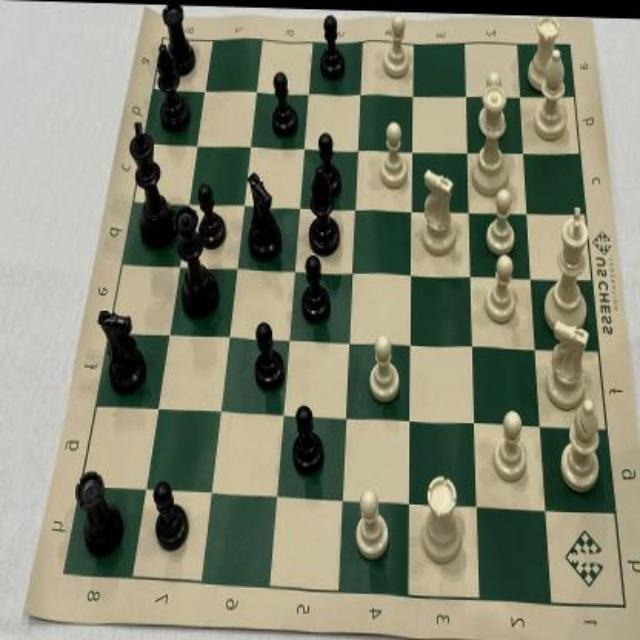black-bishop: (153, 40, 191, 133), (308, 163, 340, 256)
black-king: (126, 118, 178, 250)
black-knight: (98, 305, 145, 395), (245, 169, 285, 261)
black-pawn: (151, 477, 191, 555), (290, 397, 325, 480), (253, 317, 285, 393), (270, 67, 300, 140), (300, 252, 330, 324), (197, 180, 227, 250), (313, 128, 342, 198), (319, 10, 345, 79)
black-queen: (176, 205, 218, 321)
black-rook: (74, 468, 122, 558), (160, 3, 196, 73)
white-bishop: (560, 397, 600, 493), (534, 44, 570, 142)
white-king: (541, 199, 591, 331)
white-knight: (544, 317, 591, 407), (418, 165, 458, 258)
white-pawn: (354, 483, 390, 563), (491, 406, 527, 481), (369, 330, 401, 406), (484, 251, 517, 323), (378, 117, 410, 189), (485, 183, 515, 253), (380, 10, 410, 80), (478, 66, 505, 138)
white-queen: (469, 82, 513, 194)
white-rook: (419, 470, 463, 566), (525, 11, 559, 92)
